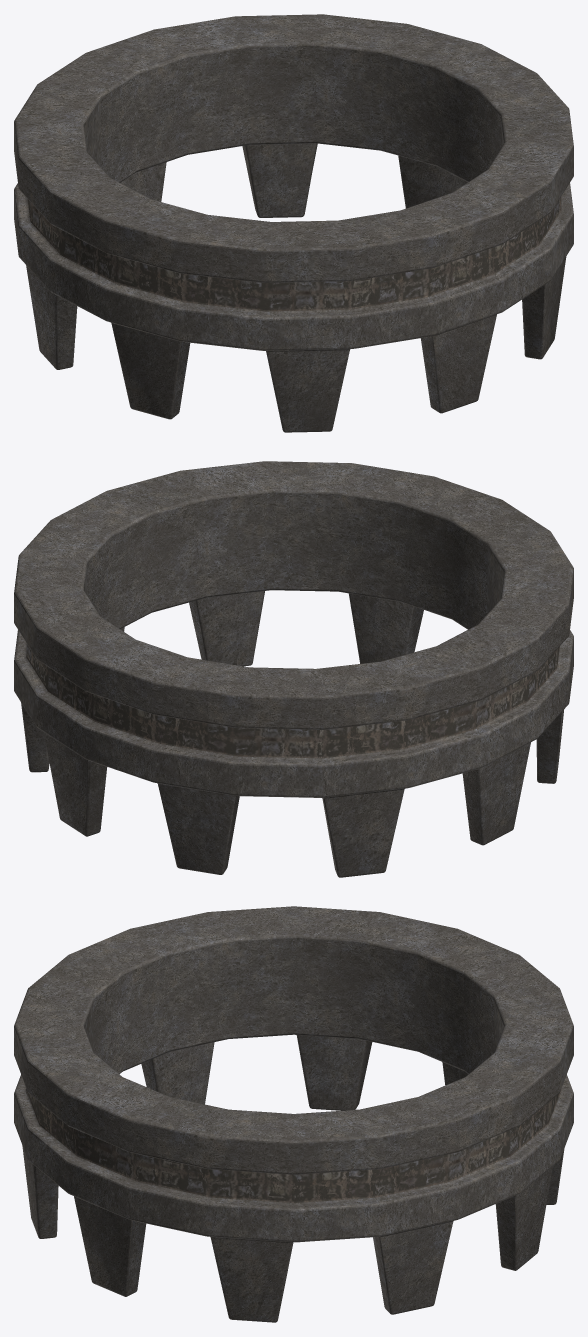
Rendered from TowerRoof_RoundStoneRock.fbx.
3 views of the same model, one above another, from view 1: azimuth 30°, elevation 25°; view 2: azimuth 150°, elevation 25°; view 3: azimuth 270°, elevation 25° (orthographic).
Parts seen in each view (by area): view 1: Round Tower Top Stone and Rock; view 2: Round Tower Top Stone and Rock; view 3: Round Tower Top Stone and Rock.
Part boxes in pixels (x1=…): Round Tower Top Stone and Rock: x1=14, y1=14, x2=573, y2=432; Round Tower Top Stone and Rock: x1=14, y1=461, x2=573, y2=877; Round Tower Top Stone and Rock: x1=14, y1=906, x2=573, y2=1322.
Bounding box in the file's own units: 646 × 240 × 646.
